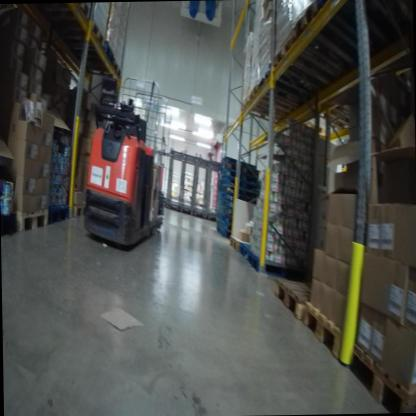pallet: (290, 1, 374, 91), (344, 341, 416, 411), (274, 35, 340, 101), (316, 0, 391, 51), (270, 271, 326, 326), (298, 298, 348, 357), (243, 241, 303, 281), (259, 72, 314, 115), (318, 92, 370, 132), (38, 18, 106, 47), (247, 81, 298, 119), (10, 197, 50, 241), (59, 37, 119, 63), (30, 3, 94, 18), (81, 62, 123, 84), (43, 194, 69, 229), (217, 165, 259, 184), (218, 186, 259, 204), (220, 177, 261, 194), (70, 200, 91, 222), (234, 235, 248, 257), (228, 232, 239, 259), (216, 199, 233, 208)
pallet_truck: (69, 74, 163, 250)
